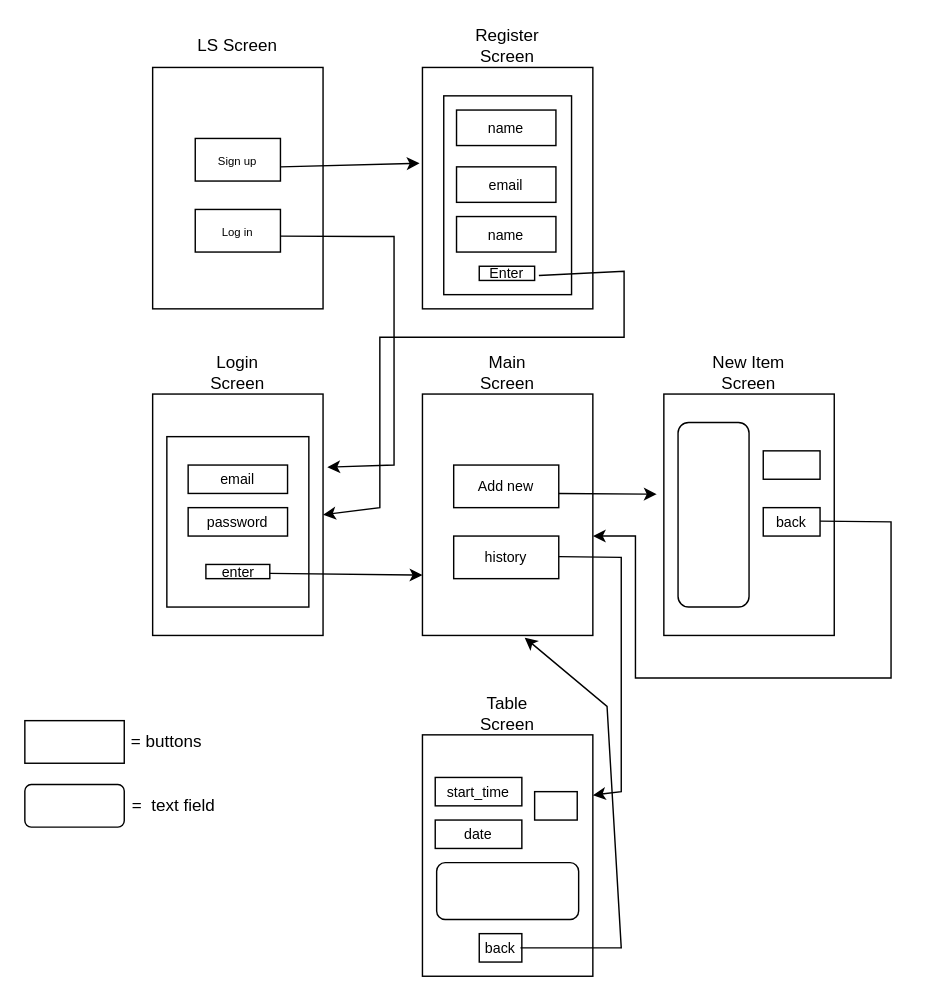
Image size: 927x1001. Some labels were removed from this diagram. The box of each missing label's shape, as (x1, y1, x2, y2) in pixels:
save: (762, 449, 820, 479)
search: (533, 790, 577, 820)
